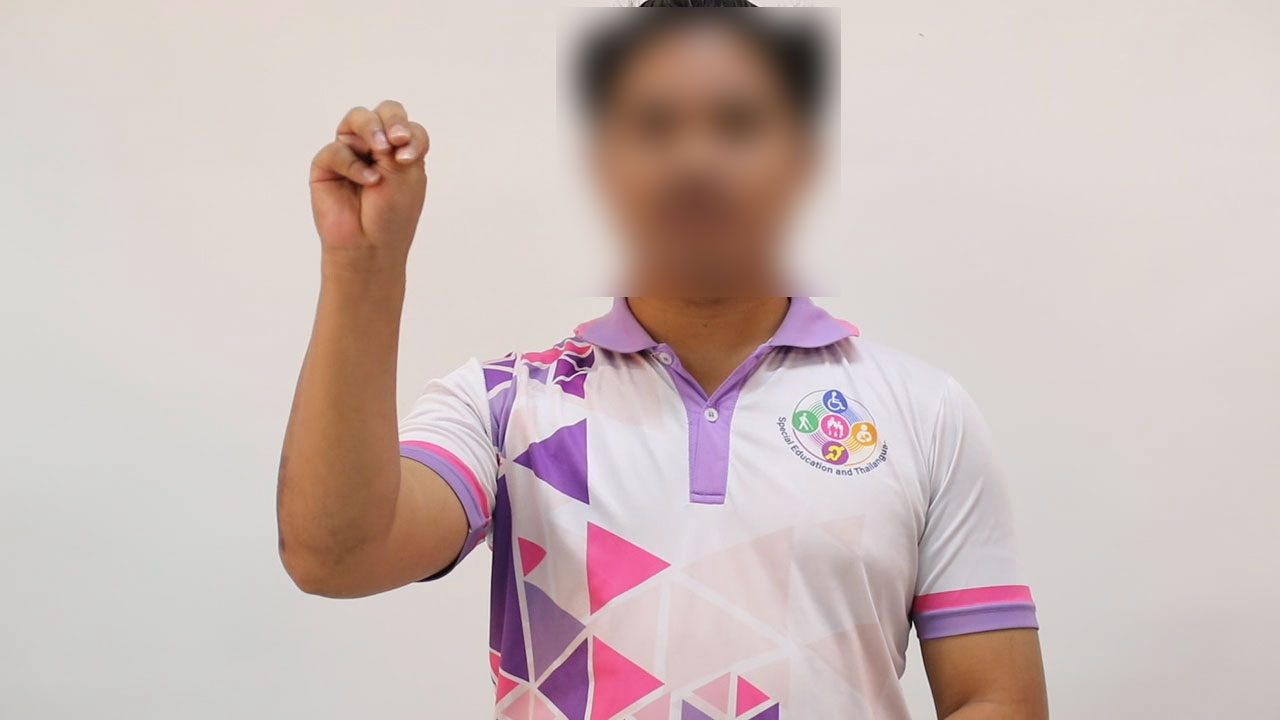mor: (295, 75, 455, 293)
